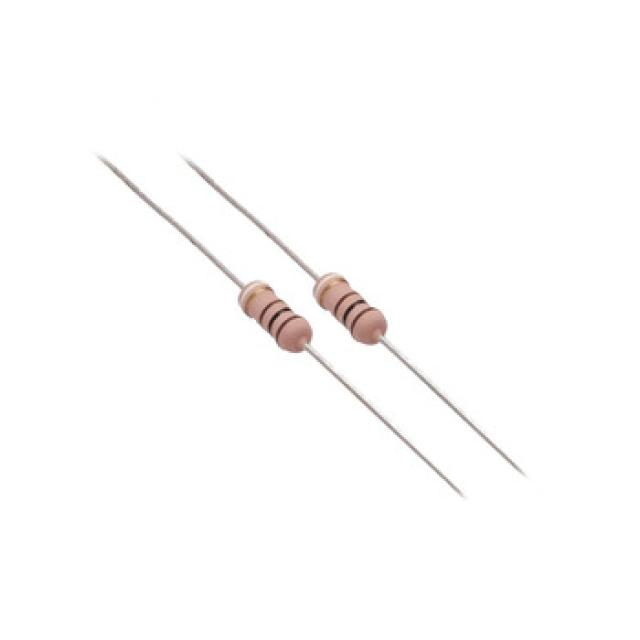Resistor: (312, 270, 393, 345), (237, 279, 311, 352)
